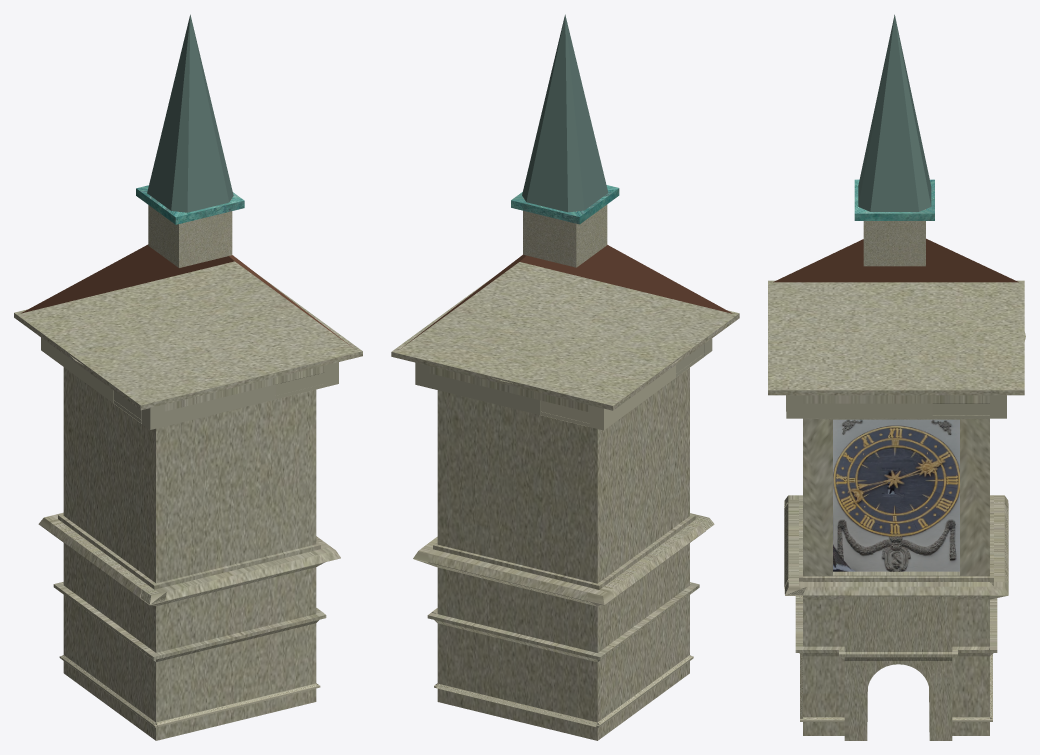
File: zytglogge.glb
3 views of the same model, side by side, from view 1: azimuth 30°, elevation 25°; view 2: azimuth 150°, elevation 25°; view 3: azimuth 270°, elevation 25° (orthographic).
Visible parts, largest first — view 1: Cube; view 2: Cube; view 3: Cube.
Boxes of the visible parts, x1,y1,x2,y2 form: Cube: (14,14,362,740); Cube: (391,14,739,740); Cube: (768,14,1025,740).
Size of the model in its own units: 8.37 by 24.14 by 8.27.
4 materials, 4 textured.
